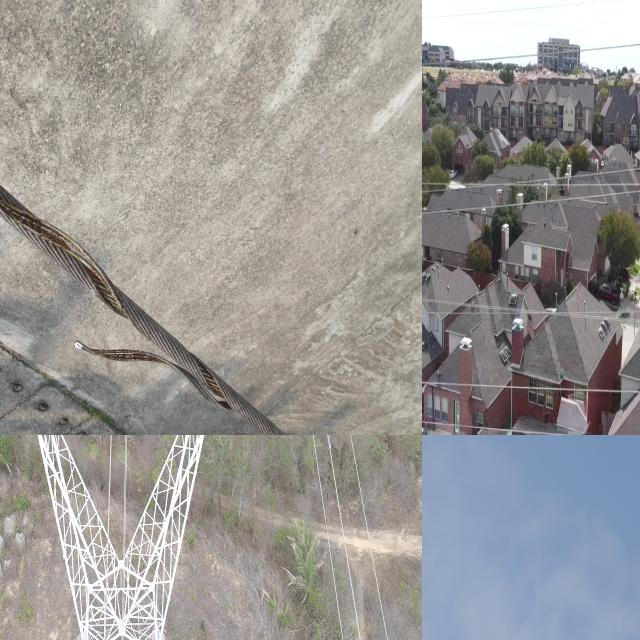杆塔: (24, 435, 223, 640)
正常电缆: (345, 435, 397, 640), (302, 435, 350, 640)
电缆破损: (12, 0, 240, 222)
